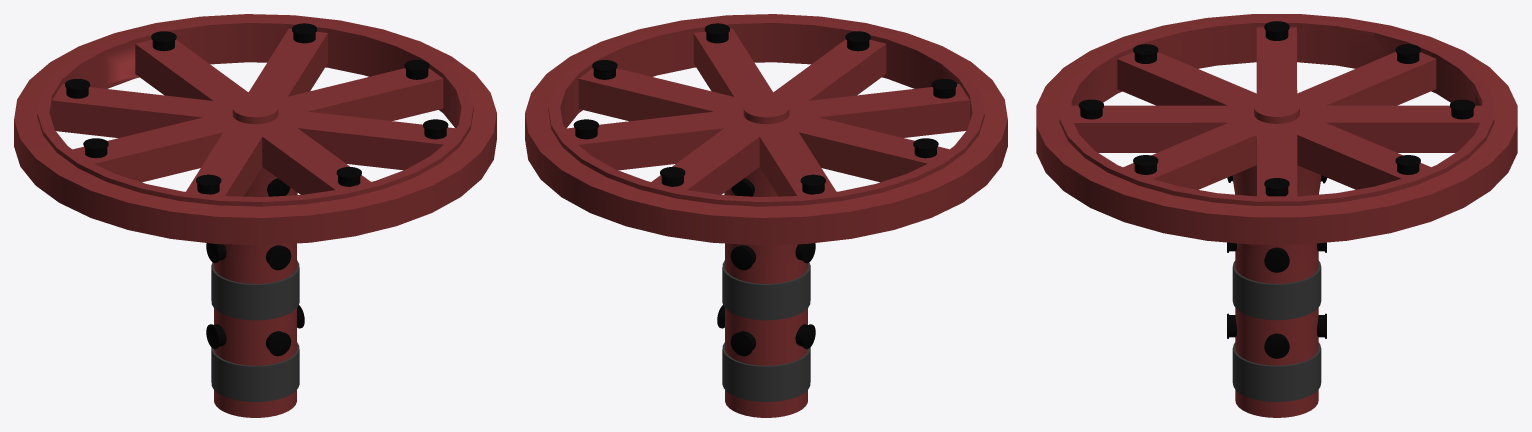
File: valve1.fbx
The picture shows the model from 3 angles, left to right: view 1: azimuth 30°, elevation 25°; view 2: azimuth 150°, elevation 25°; view 3: azimuth 270°, elevation 25°; orthographic projection.
Parts seen in each view (by area): view 1: Цилиндр.001, Цилиндр.003, Цилиндр.002; view 2: Цилиндр.001, Цилиндр.003, Цилиндр.002; view 3: Цилиндр.001, Цилиндр.003, Цилиндр.002.
Part boxes in pixels (x1=…): Цилиндр.001: x1=14, y1=14, x2=496, y2=417; Цилиндр.003: x1=211, y1=194, x2=299, y2=401; Цилиндр.002: x1=65, y1=23, x2=448, y2=356; Цилиндр.001: x1=525, y1=14, x2=1007, y2=417; Цилиндр.003: x1=722, y1=194, x2=810, y2=401; Цилиндр.002: x1=573, y1=23, x2=956, y2=356; Цилиндр.001: x1=1036, y1=14, x2=1517, y2=417; Цилиндр.003: x1=1232, y1=260, x2=1321, y2=401; Цилиндр.002: x1=1078, y1=21, x2=1475, y2=358.
Size of the model in its own units: 57.84 by 39.31 by 57.84.
